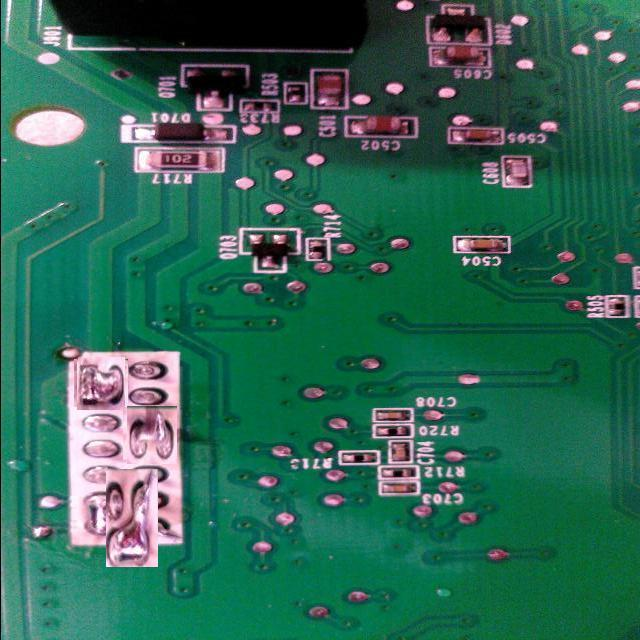Short_circuit: (95, 480, 170, 556), (125, 408, 180, 462), (76, 358, 126, 408)
